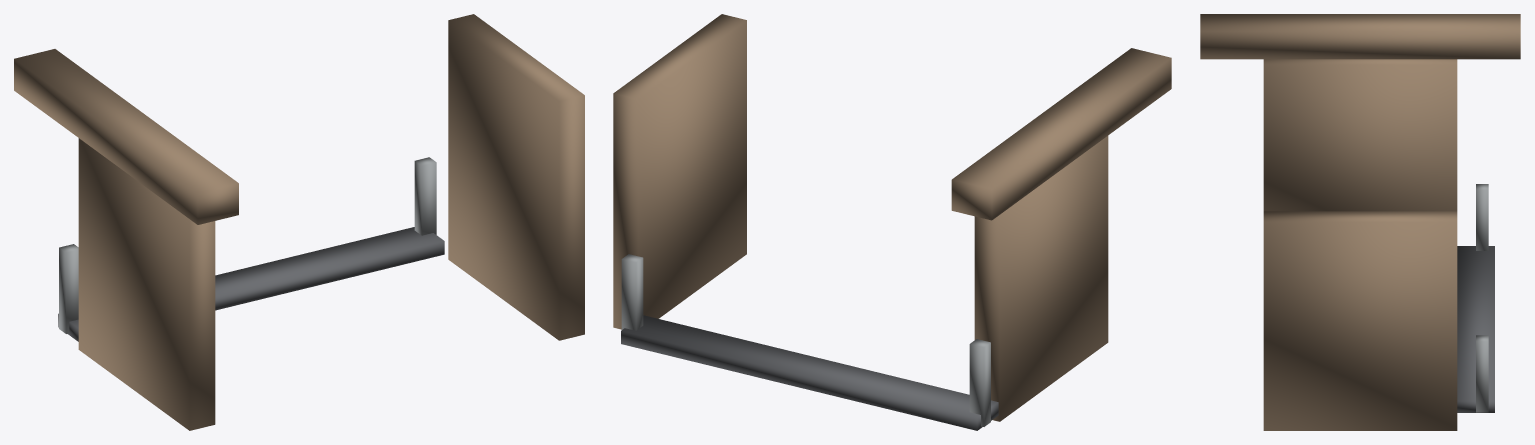
Rendered from luggage_rack__reinforced.glb.
The picture shows the model from 3 angles, left to right: view 1: azimuth 30°, elevation 25°; view 2: azimuth 150°, elevation 25°; view 3: azimuth 270°, elevation 25°; orthographic projection. The views are drawn at different scales.
Parts seen in each view (by area): view 1: world; view 2: world; view 3: world.
Boxes of the visible parts, box(x1,y1,x2,y2) form: world: box(14, 14, 584, 430); world: box(613, 14, 1171, 430); world: box(1200, 14, 1520, 430).
Bounding box in the file's own units: 0.8497 × 0.5202 × 0.6386.
